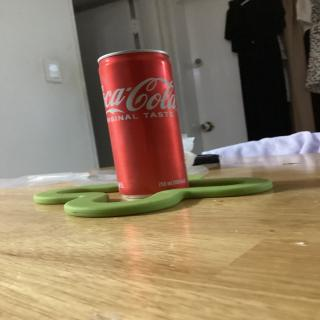cocacola: (94, 48, 196, 202)
